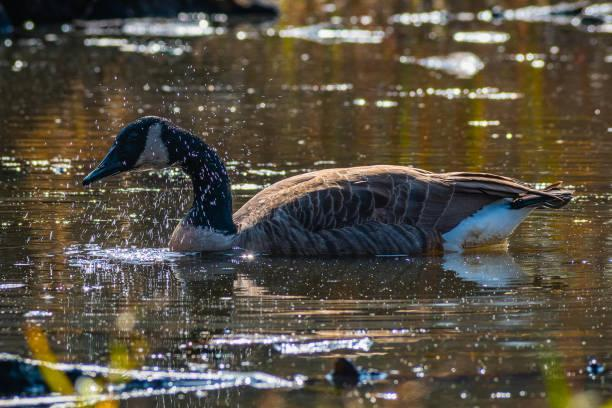Canadian-Goose: (80, 111, 567, 260)
